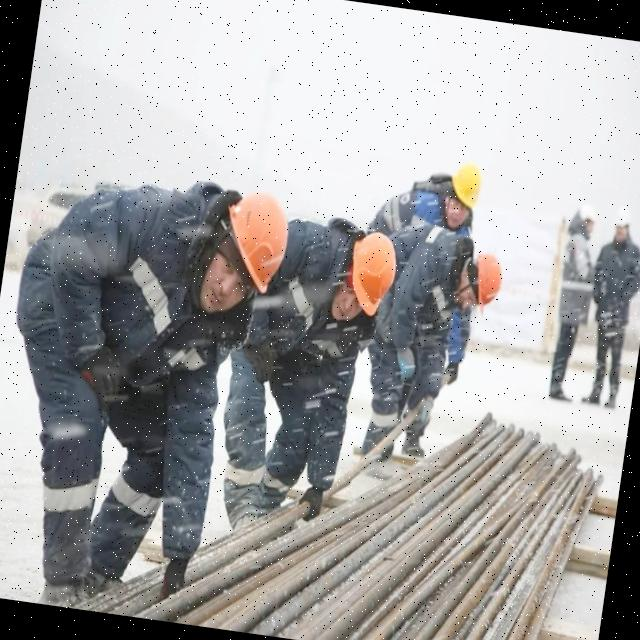Helmet: (218, 192, 293, 299), (342, 231, 401, 322), (470, 255, 507, 318), (447, 163, 485, 214), (614, 209, 635, 232), (580, 207, 601, 226)
NoJacket: (31, 179, 223, 421), (376, 233, 476, 417), (266, 224, 359, 412), (595, 236, 640, 329), (556, 227, 598, 324)
